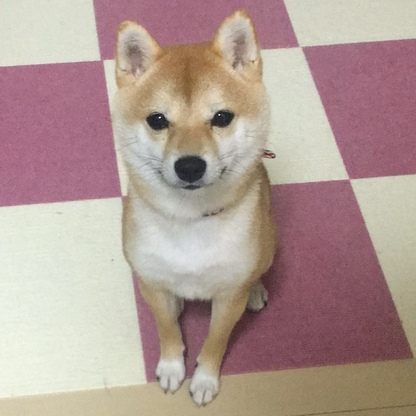shiba: (101, 7, 288, 409)
